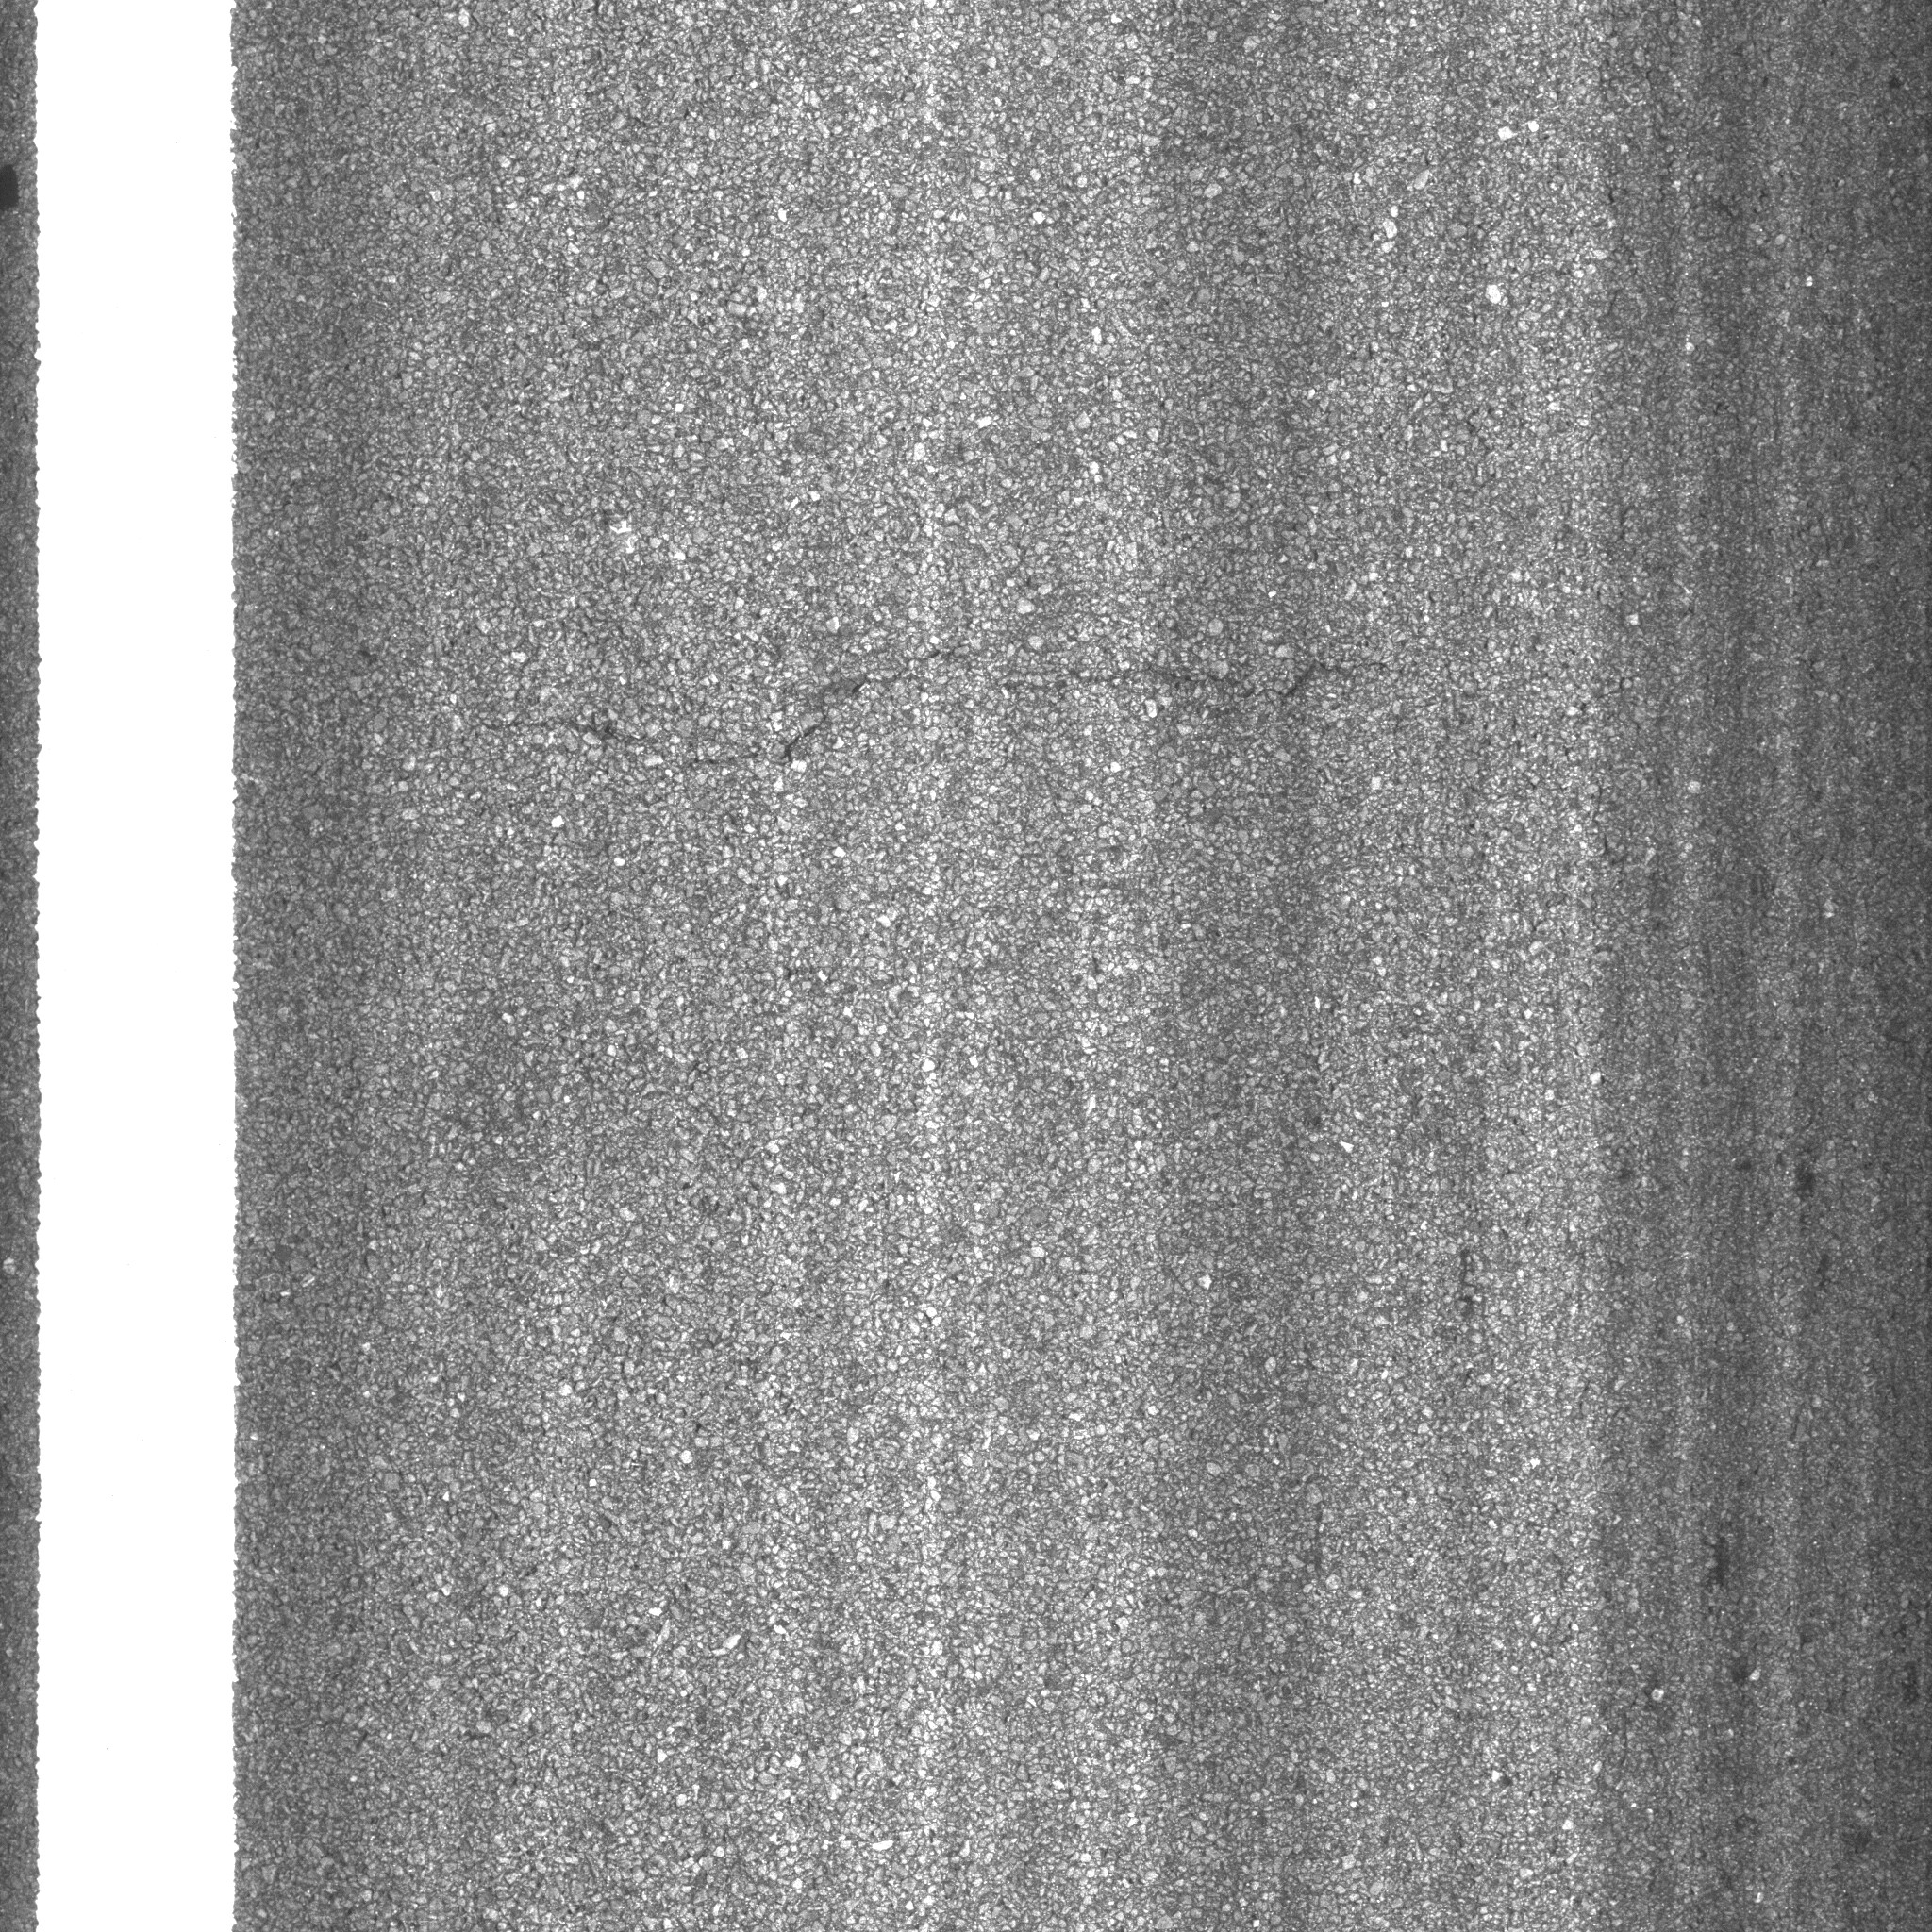transverse: (403, 573, 1465, 807)
